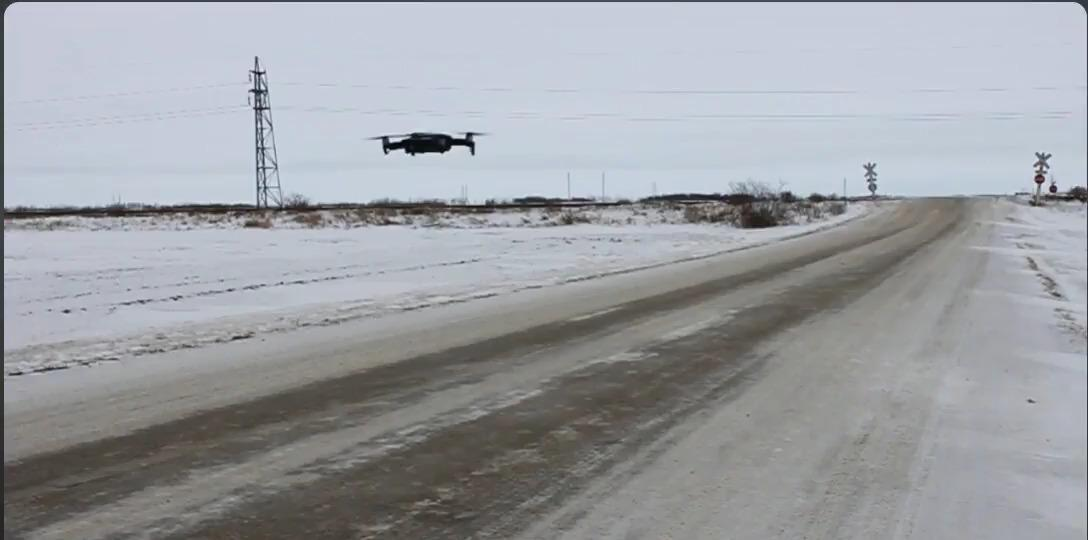dr: (360, 99, 500, 186)
